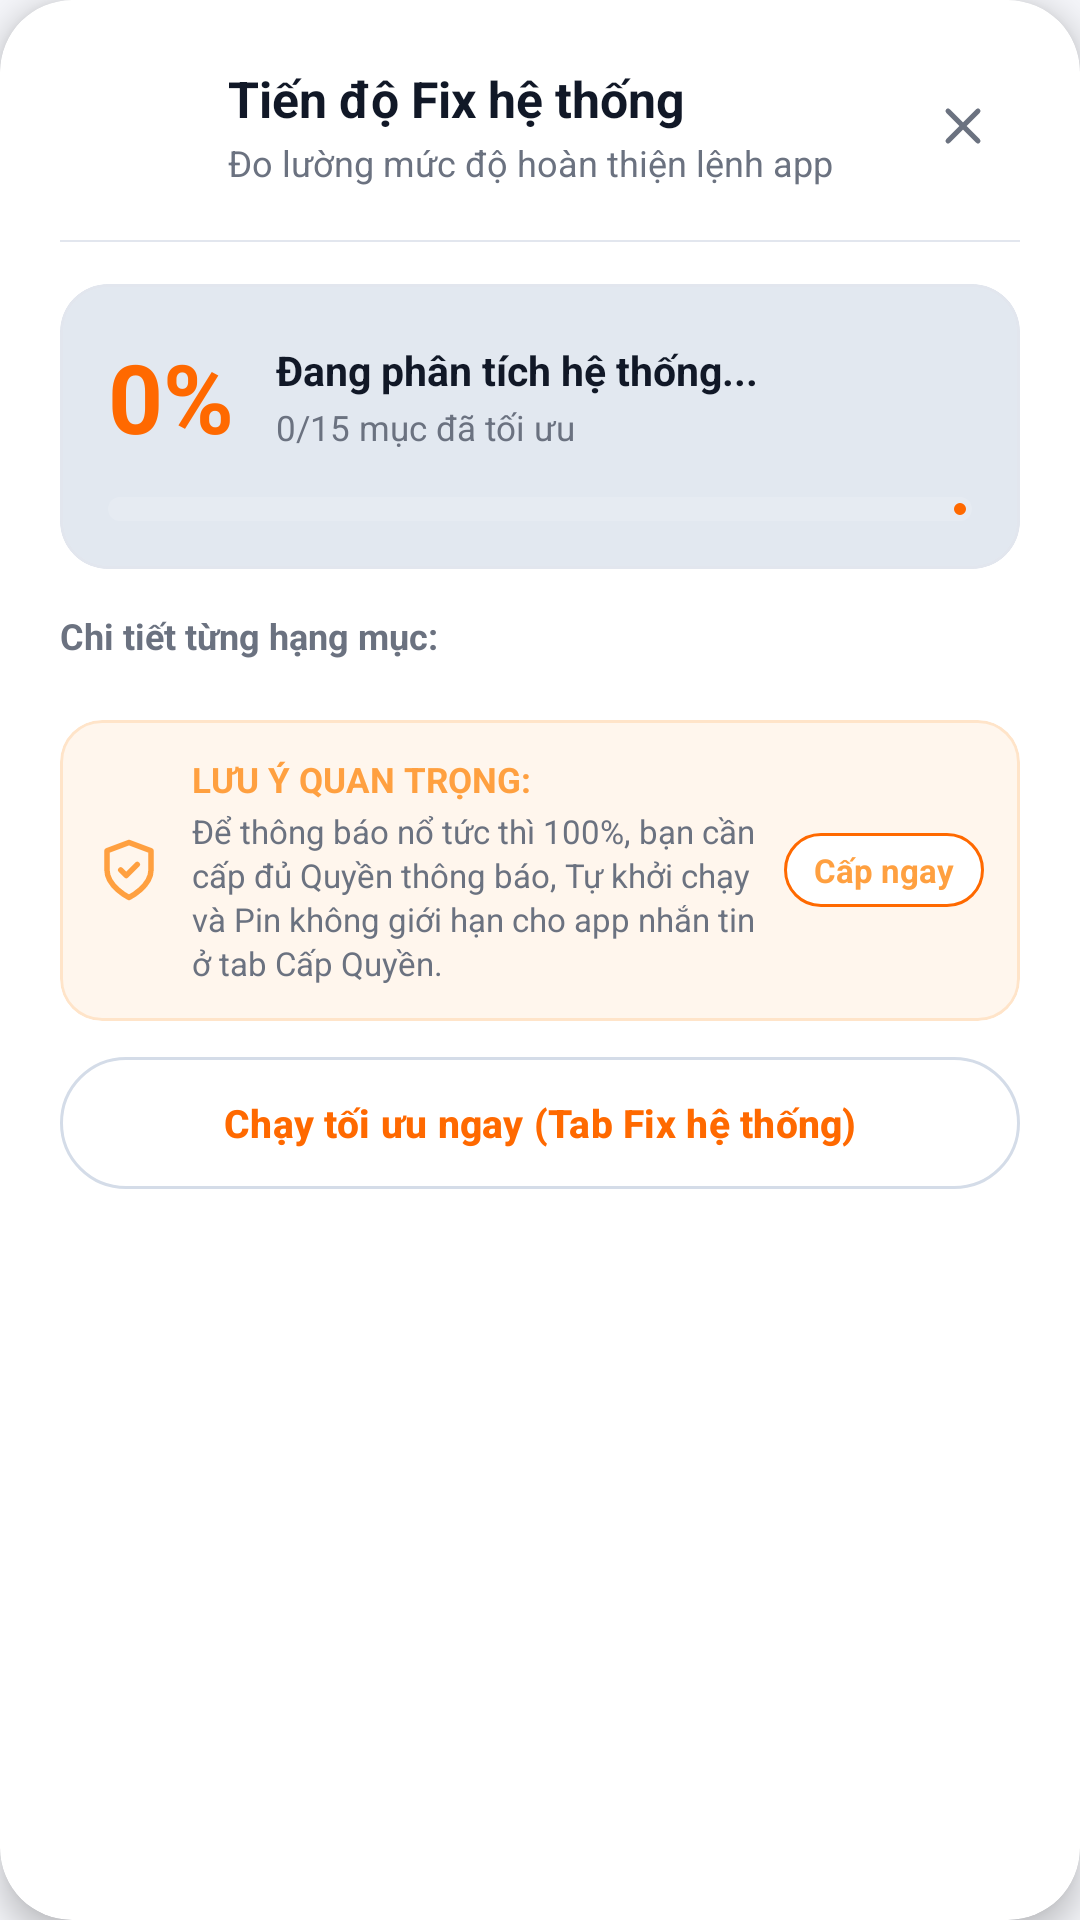

Icons on this 1080 × 1920 Android screen, each with its box as (x1, y1, x2, y2):
close: (945, 108, 981, 144)
shield: (104, 839, 154, 901)
